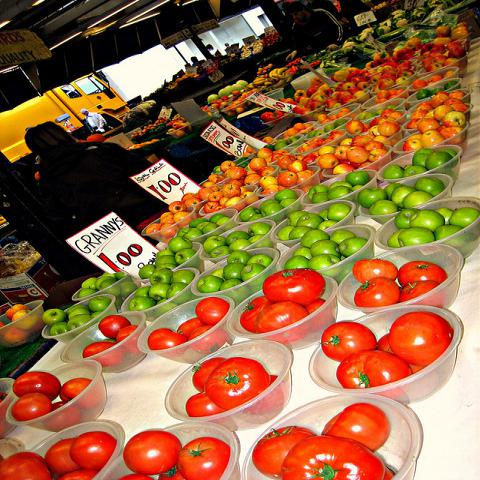truck: (0, 68, 133, 166)
